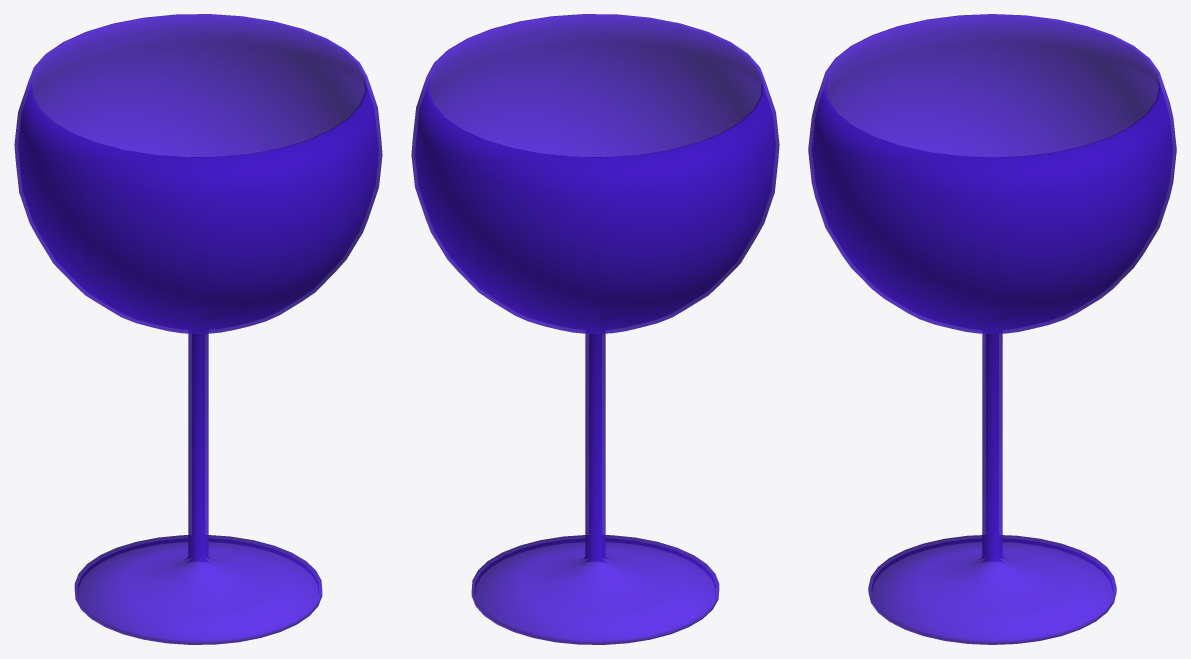
3 views of the same model, side by side, from view 1: azimuth 30°, elevation 25°; view 2: azimuth 150°, elevation 25°; view 3: azimuth 270°, elevation 25° (orthographic).
Visible parts, largest first — view 1: Sphere; view 2: Sphere; view 3: Sphere.
Boxes of the visible parts, x1=… form: Sphere: x1=14, y1=14, x2=382, y2=644; Sphere: x1=411, y1=14, x2=779, y2=644; Sphere: x1=808, y1=14, x2=1176, y2=644.
Bounding box in the file's own units: 1.61 × 2.43 × 1.61.
